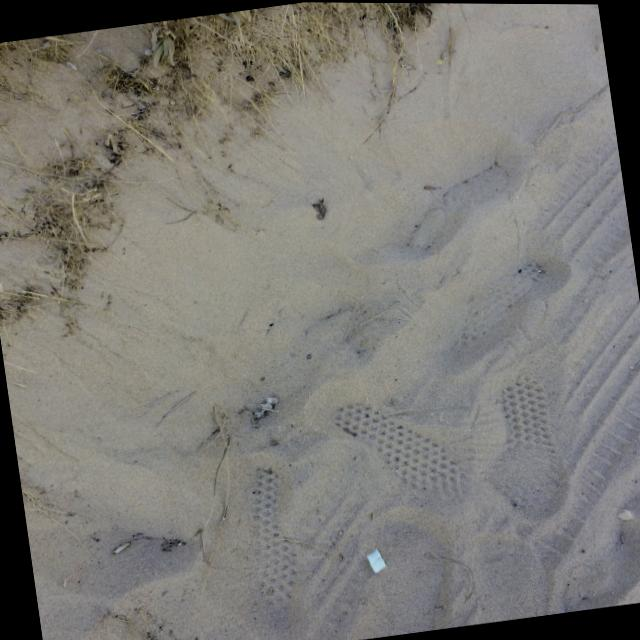Plastic: (358, 544, 392, 578)
